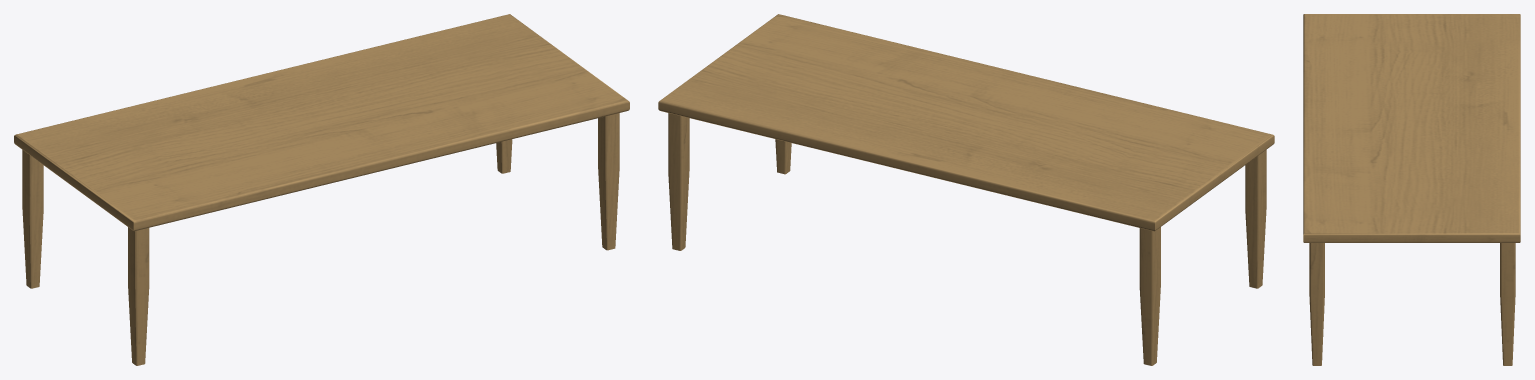
Rendered from FBXtable.fbx.
3 views of the same model, side by side, from view 1: azimuth 30°, elevation 25°; view 2: azimuth 150°, elevation 25°; view 3: azimuth 270°, elevation 25° (orthographic). The views are drawn at different scales.
Parts seen in each view (by area): view 1: pasted__pCube2; view 2: pasted__pCube2; view 3: pasted__pCube2.
Boxes of the visible parts, bbox=[...] form: pasted__pCube2: bbox=[14, 14, 629, 365]; pasted__pCube2: bbox=[658, 14, 1274, 365]; pasted__pCube2: bbox=[1303, 14, 1520, 365].
Bounding box in the file's own units: 11.99 × 3.45 × 5.
Materials: 1 (1 with a texture image).
